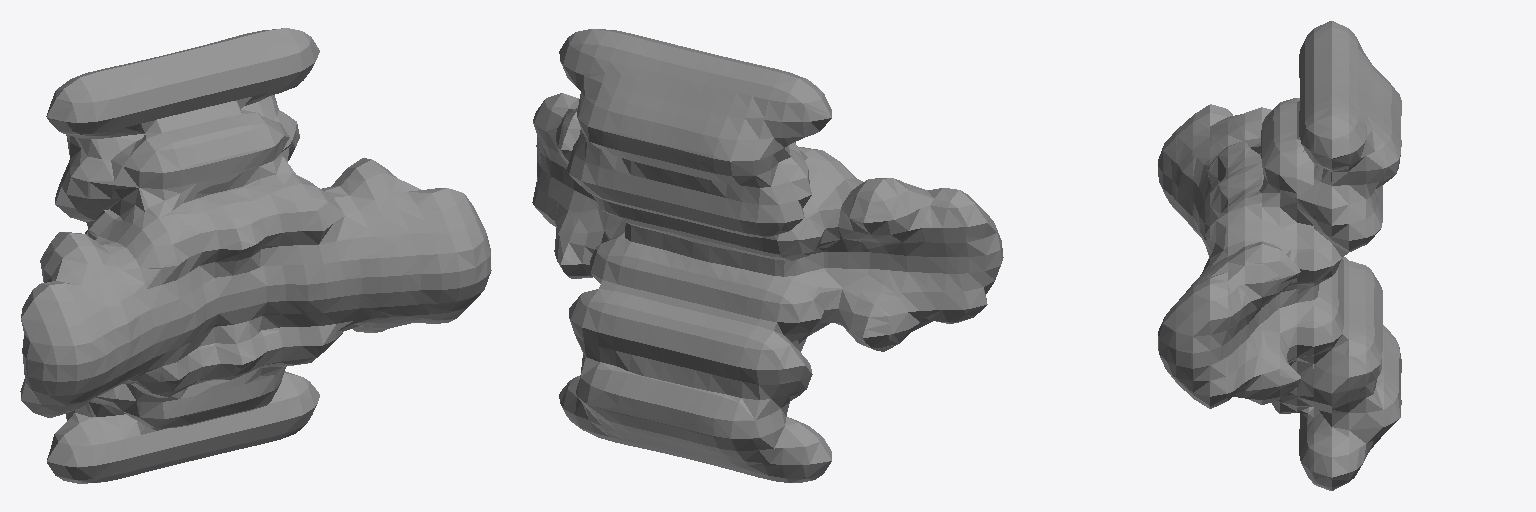
The robot description file, URDF, robot "cube.urdf":
<?xml version="0.0" ?> 
<robot name="cube.urdf"> 
<link name="legobrick"> 
<contact> 
<lateral_friction value="5.0"/> 
<rolling_friction value="0.0"/> 
<contact_cfm value="0.0"/> 
<contact_erp value="1.0"/> 
</contact> 
<inertial> 
<origin rpy="0 0 0" xyz="0.0 0.0 0.0"/> 
<mass value=".01"/> 
<inertia ixx="1" ixy="0" ixz="0" iyy="1" iyz="0" izz="1"/> 
</inertial> 
<visual> 
<origin rpy="1.570796 0 0" xyz="-0.031497986271842686 0.03443342432682091 -0.031585513654266296"/> 
<geometry> 
<mesh filename="U23_1.obj" scale="0.0006630344692825921 0.0006630344692825921 0.0006630344692825921"/> 
</geometry> 
<material name="yellow"> 
<color rgba="0.6 0.6 0.6 1"/> 
</material> 
</visual> 
<collision> 
<origin rpy="1.570796 0 0" xyz="-0.031497986271842686 0.03443342432682091 -0.031585513654266296"/> 
<geometry> 
<mesh filename="U23_1.obj" scale="0.0006630344692825921 0.0006630344692825921 0.0006630344692825921"/> 
</geometry> 
</collision> 
</link> 
</robot>

--- Render facts (derived) ---
3 views of the same robot in one strip: view 1: azimuth 30°, elevation 25°; view 2: azimuth 150°, elevation 25°; view 3: azimuth 270°, elevation 25° (orthographic).
Robot: cube.urdf — 1 links, 0 joints (none); root link legobrick; default pose: all joints at 0.
Visible links, largest first — view 1: legobrick; view 2: legobrick; view 3: legobrick.
Link boxes in pixels (bbox=[...]): legobrick: bbox=[20, 28, 491, 483]; legobrick: bbox=[532, 29, 1003, 482]; legobrick: bbox=[1158, 21, 1401, 490].
Size in the robot's own frame: 0.0663 by 0.0326 by 0.056 metres.
Meshes: 1 distinct files referenced, 1 mesh visuals loaded (1 OBJ).
